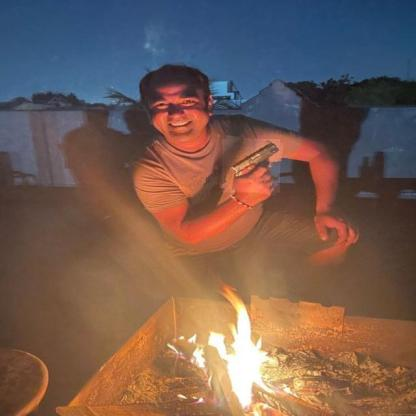handgun: (220, 138, 282, 195)
